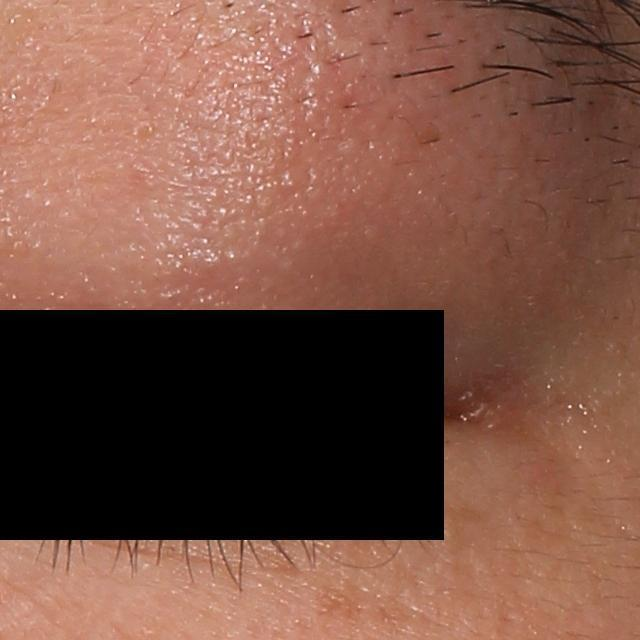melasma: (545, 457, 592, 518), (311, 581, 366, 630)
